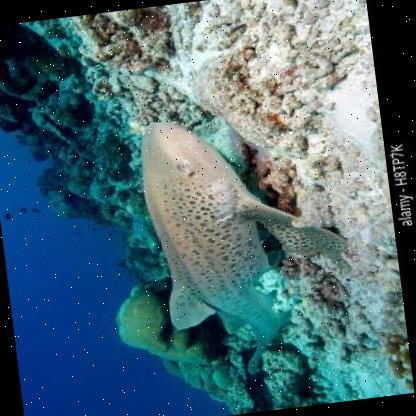zebra_shark: (129, 96, 367, 394)
